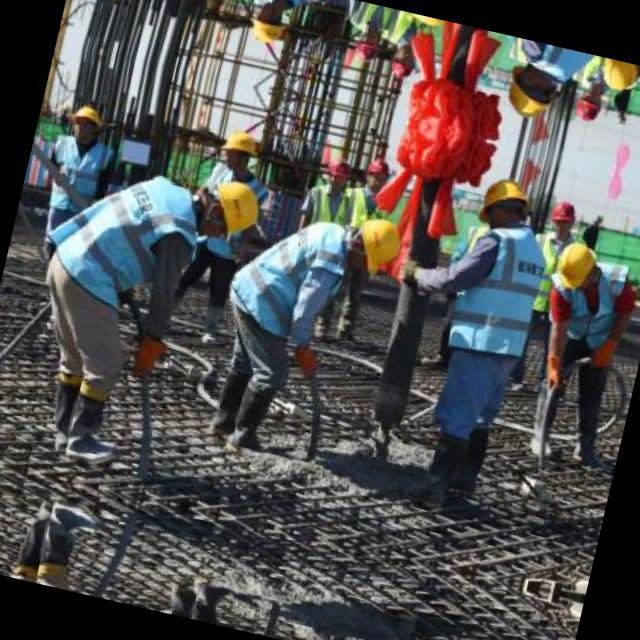helmet: (192, 166, 270, 246), (344, 212, 406, 280), (474, 170, 537, 233), (500, 59, 562, 122), (546, 230, 604, 294), (212, 121, 264, 175), (241, 0, 293, 49), (590, 55, 640, 99), (538, 187, 580, 235), (563, 82, 605, 130), (64, 96, 106, 142), (360, 150, 398, 194), (386, 40, 424, 84), (346, 25, 386, 65), (318, 151, 357, 191), (247, 0, 313, 7)
